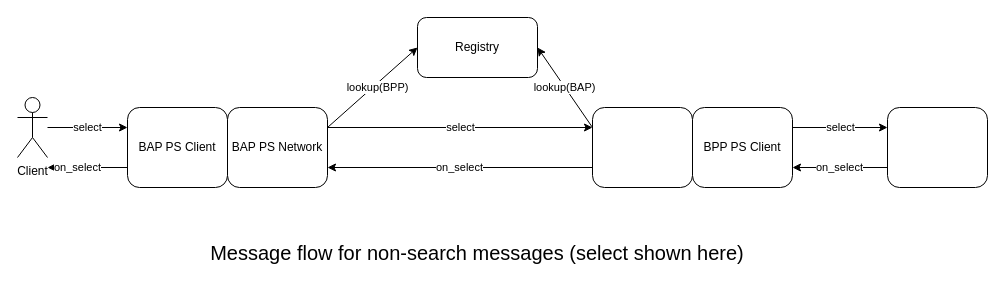
This 1005x285 diagram has some shape labels left out. Each missing label, with the box of its shape:
BPP PS Network: (592, 106, 692, 188)
BPP SW/ Simulator: (886, 106, 988, 188)
